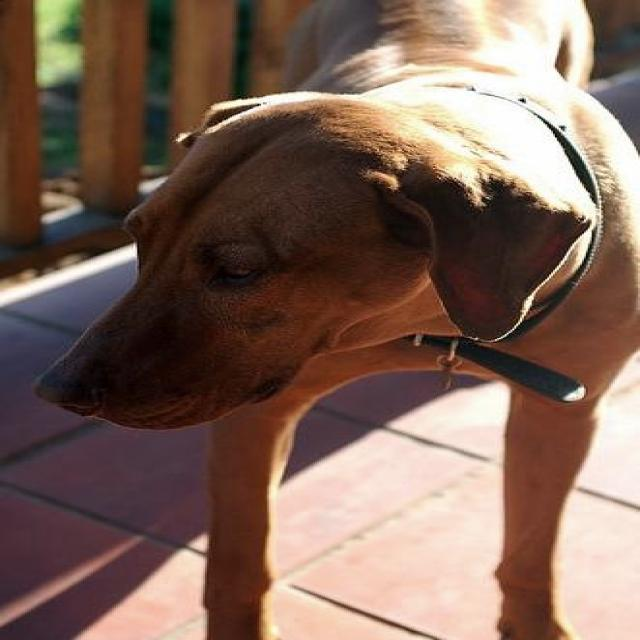rhodesian_ridgeback: (39, 1, 636, 638)
